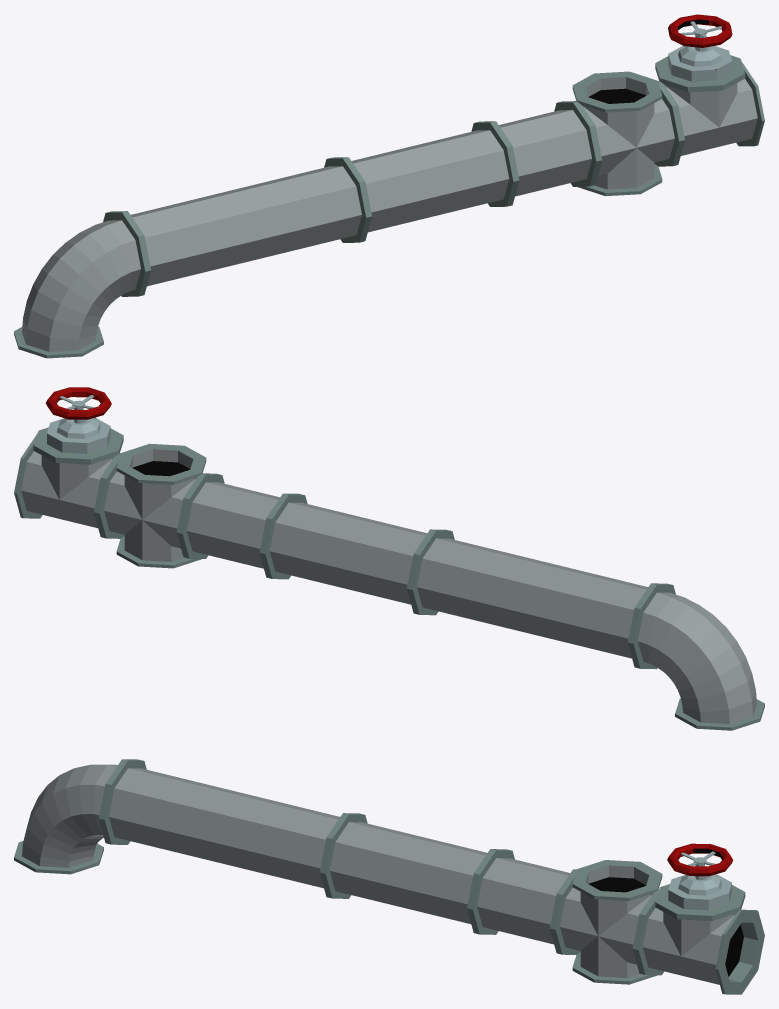
The model's file is modular_pipe_set.glb.
3 views of the same model, one above another, from view 1: azimuth 30°, elevation 25°; view 2: azimuth 150°, elevation 25°; view 3: azimuth 330°, elevation 25° (orthographic).
Parts seen in each view (by area): view 1: Pipe_Long, Pipe_90Angle, Pipe_Medium, Pipe_4Way, Pipe_Short, Pipe_3Way, Valve; view 2: Pipe_Long, Pipe_90Angle, Pipe_Medium, Pipe_4Way, Pipe_Short, Pipe_3Way, Valve; view 3: Pipe_Long, Pipe_Medium, Pipe_4Way, Pipe_3Way, Pipe_90Angle, Pipe_Short, Valve.
Boxes of the visible parts, x1=… form: Pipe_Long: x1=108, y1=158, x2=368, y2=295; Pipe_90Angle: x1=14, y1=212, x2=148, y2=358; Pipe_Medium: x1=330, y1=122, x2=516, y2=241; Pipe_4Way: x1=561, y1=71, x2=681, y2=196; Pipe_Short: x1=477, y1=101, x2=599, y2=205; Pipe_3Way: x1=655, y1=61, x2=764, y2=165; Valve: x1=655, y1=14, x2=745, y2=89; Pipe_Long: x1=410, y1=530, x2=668, y2=667; Pipe_90Angle: x1=630, y1=584, x2=764, y2=730; Pipe_Medium: x1=262, y1=494, x2=447, y2=613; Pipe_4Way: x1=97, y1=443, x2=218, y2=568; Pipe_Short: x1=179, y1=474, x2=301, y2=577; Pipe_3Way: x1=14, y1=434, x2=123, y2=537; Valve: x1=33, y1=387, x2=123, y2=461; Pipe_Long: x1=101, y1=760, x2=360, y2=897; Pipe_Medium: x1=322, y1=814, x2=508, y2=933; Pipe_4Way: x1=553, y1=860, x2=662, y2=984; Pipe_3Way: x1=635, y1=890, x2=764, y2=994; Pipe_90Angle: x1=14, y1=759, x2=140, y2=874; Pipe_Short: x1=470, y1=849, x2=576, y2=953; Valve: x1=655, y1=843, x2=745, y2=918.
Bounding box in the file's own units: 3.27 × 0.676 × 0.3649.
1 material, 1 textured.
